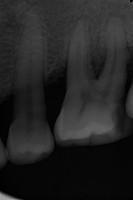Endo-Periodontal Lesion: (90, 48, 107, 78)
